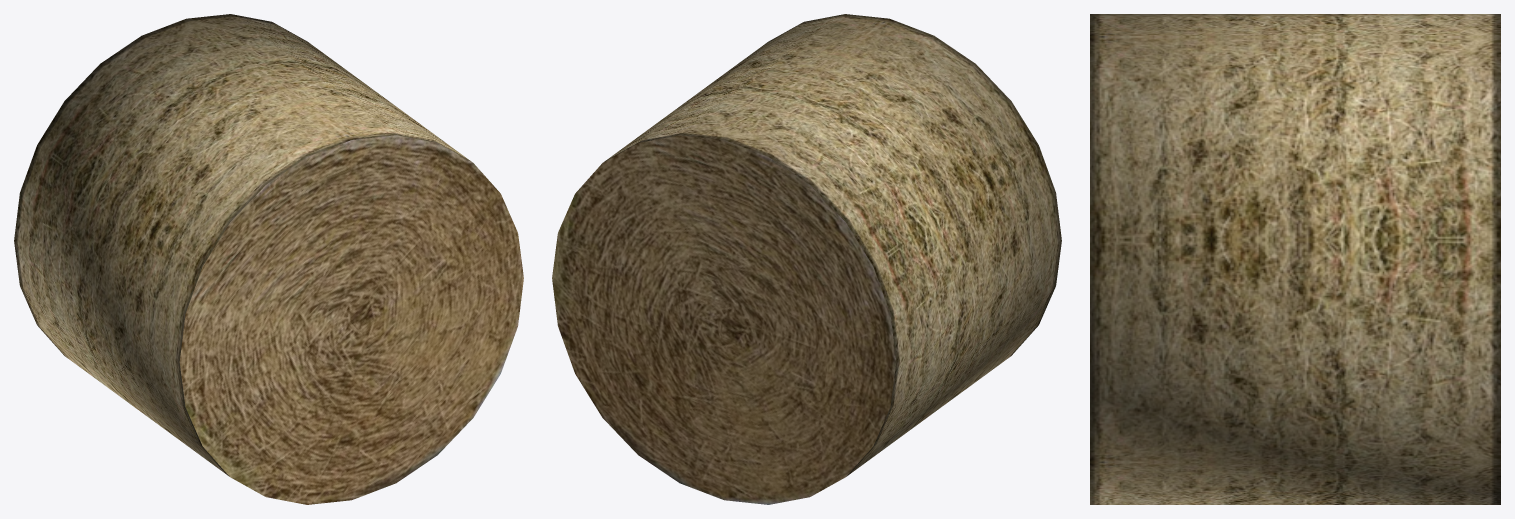
Rendered from hay-bale-straw-cbj_LOD00.gltf.
3 views of the same model, side by side, from view 1: azimuth 30°, elevation 25°; view 2: azimuth 150°, elevation 25°; view 3: azimuth 270°, elevation 25° (orthographic). The views are drawn at different scales.
Visible parts, largest first — view 1: Cube; view 2: Cube; view 3: Cube.
Part boxes in pixels (left/top/right/bottom): Cube: left=14, top=14, right=523, bottom=504; Cube: left=552, top=14, right=1061, bottom=504; Cube: left=1090, top=14, right=1500, bottom=504.
Size of the model in its own units: 1.8 by 1.8 by 1.5.
